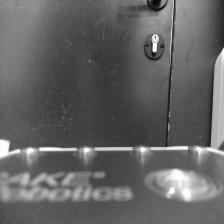Lock: (144, 32, 166, 62)
